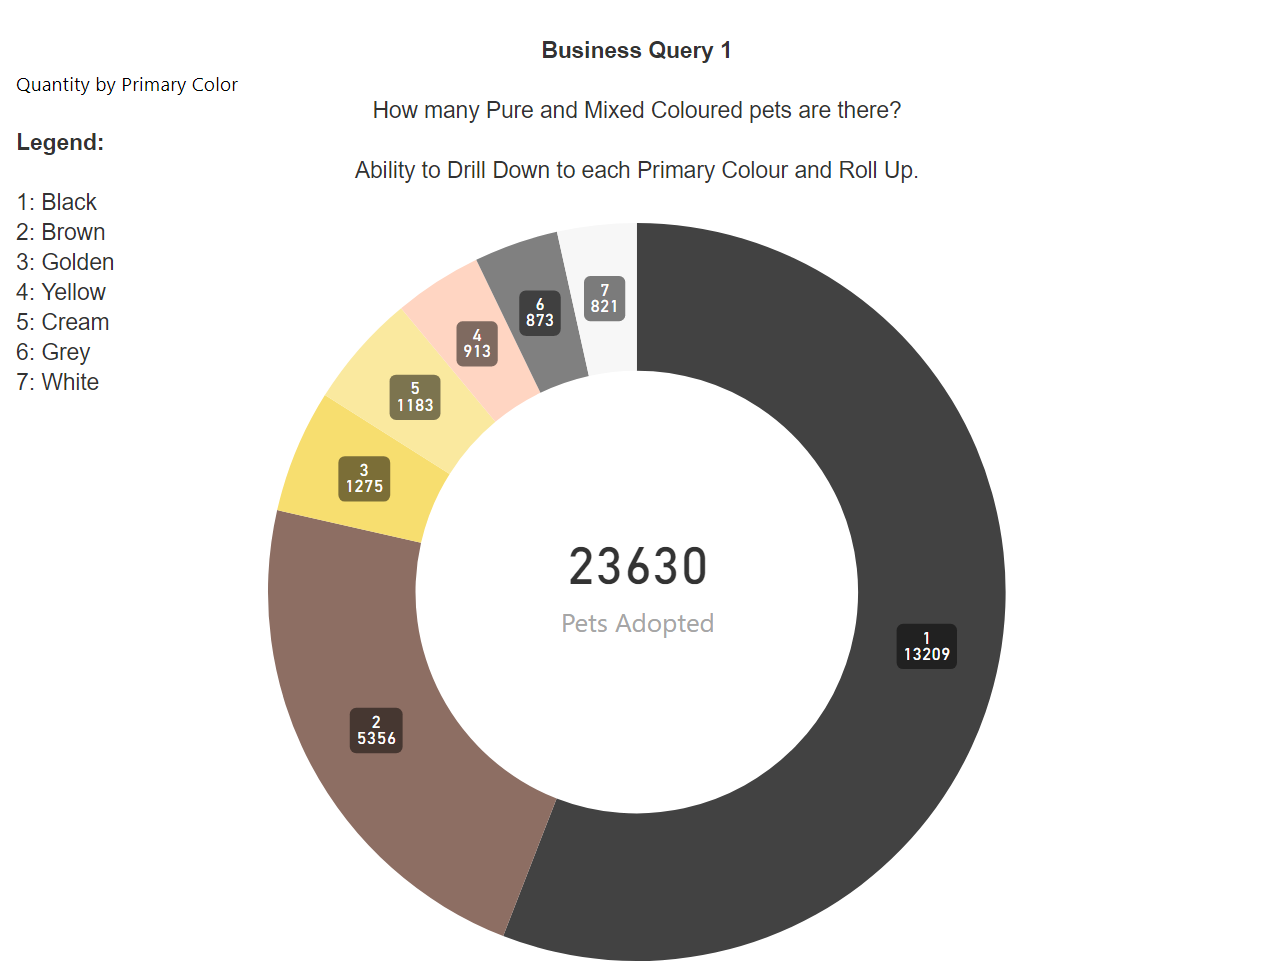

What the dashboard file says about the page in this screenshot:
{"tool":"powerbi","page":{"name":"Business Query 1","canvas":[1280,720],"ordinal":0},"visuals":[{"type":"donutChart","fields":{"Category":["Dim Color.Hierarchy.Color Purity","Dim Color.Hierarchy.Primary Color"],"Y":["Fact Pet Adoption Speed.Quantity"]},"box":[177.9,44.5,1024.2,628.9],"z":0},{"type":"textbox","box":[177.9,74.1,98.8,186.6],"z":1000},{"type":"textbox","box":[439.8,17.3,500.4,113.7],"z":2000},{"type":"card","fields":{"Values":["Fact Pet Adoption Speed.Quantity"]},"box":[612.8,289.1,155.7,139.6],"z":3000}]}

Visuals, with their boxes on the page's 1280x720 design canvas (x1, y1, x2, y2). These are canvas units, not pixel positions in the 1274x978 screenshot, which may show the page scaled, cropped or inside an application window:
donutChart - Dim Color.Hierarchy.Color Purity x Dim Color.Hierarchy.Primary Color: 178,44,1202,673
textbox: 178,74,277,261
textbox: 440,17,940,131
card - Fact Pet Adoption Speed.Quantity: 613,289,768,429
